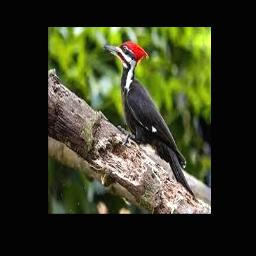Woodpecker: (103, 40, 196, 198)
